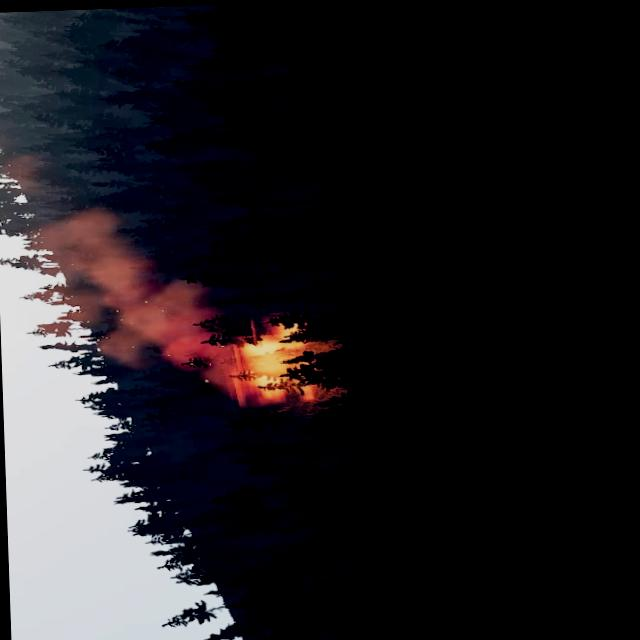fire: (231, 321, 318, 402)
smoke: (32, 205, 235, 392), (0, 153, 44, 197)
